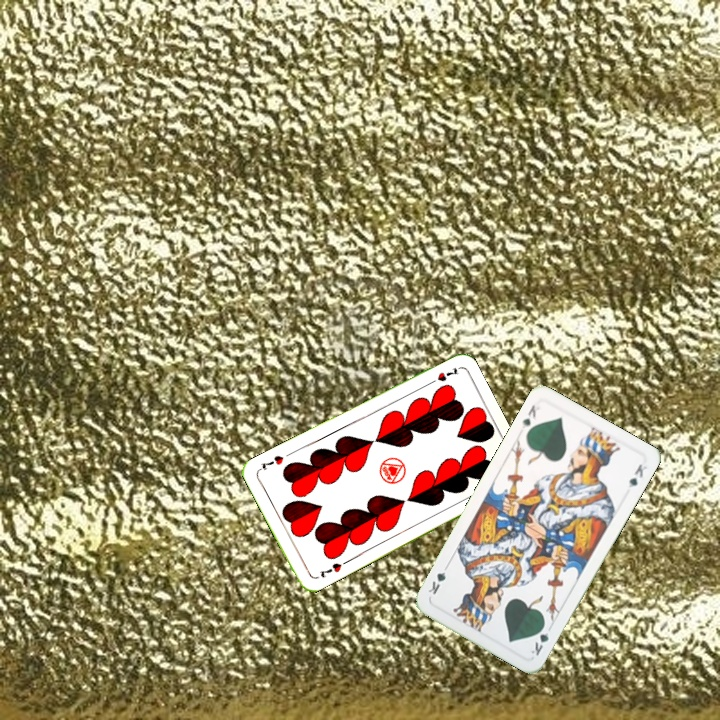GK: (527, 619, 551, 658), (518, 401, 543, 432)
H7: (424, 363, 461, 387), (316, 559, 344, 580)
